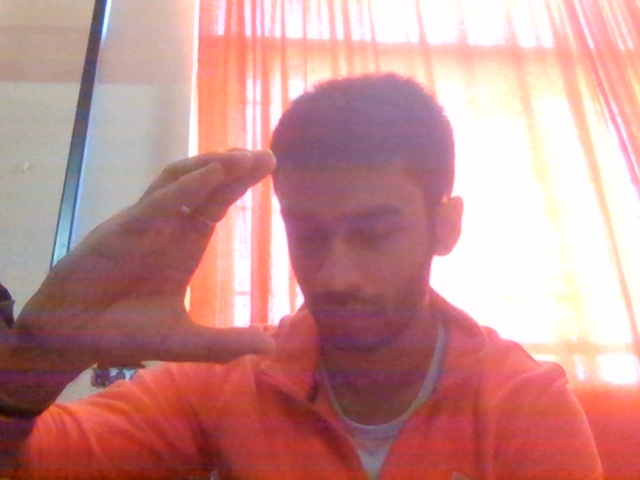C: (22, 139, 297, 417)
